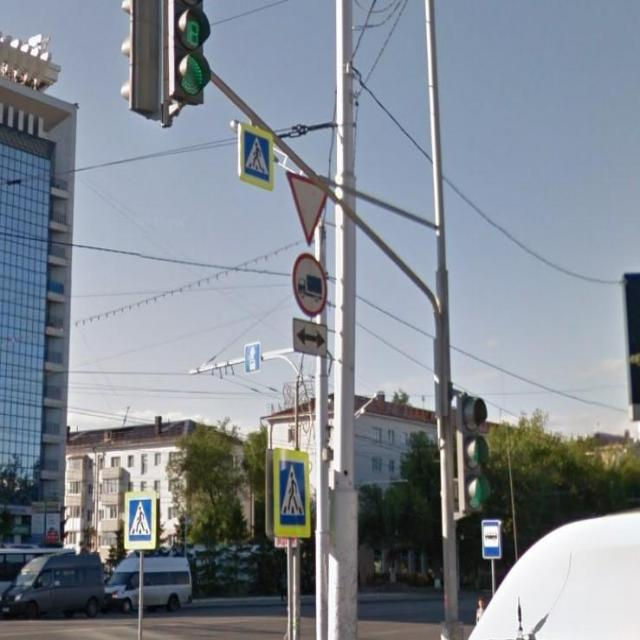traffic_sign: (268, 445, 315, 542), (285, 162, 330, 248), (236, 117, 278, 195), (289, 250, 331, 320), (120, 485, 162, 554), (479, 517, 501, 562)
